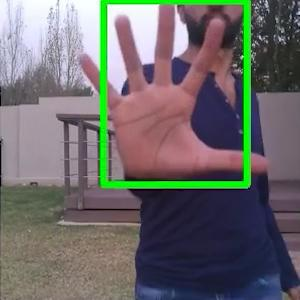follow_hand: (74, 0, 270, 185)
